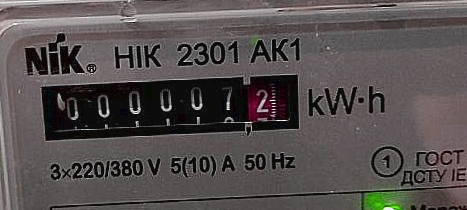0: (62, 93, 80, 120), (156, 85, 174, 112), (94, 90, 111, 118), (125, 87, 142, 115), (188, 83, 204, 112)
2: (253, 87, 270, 113)
7: (219, 82, 235, 112)
screen: (29, 67, 310, 145)
